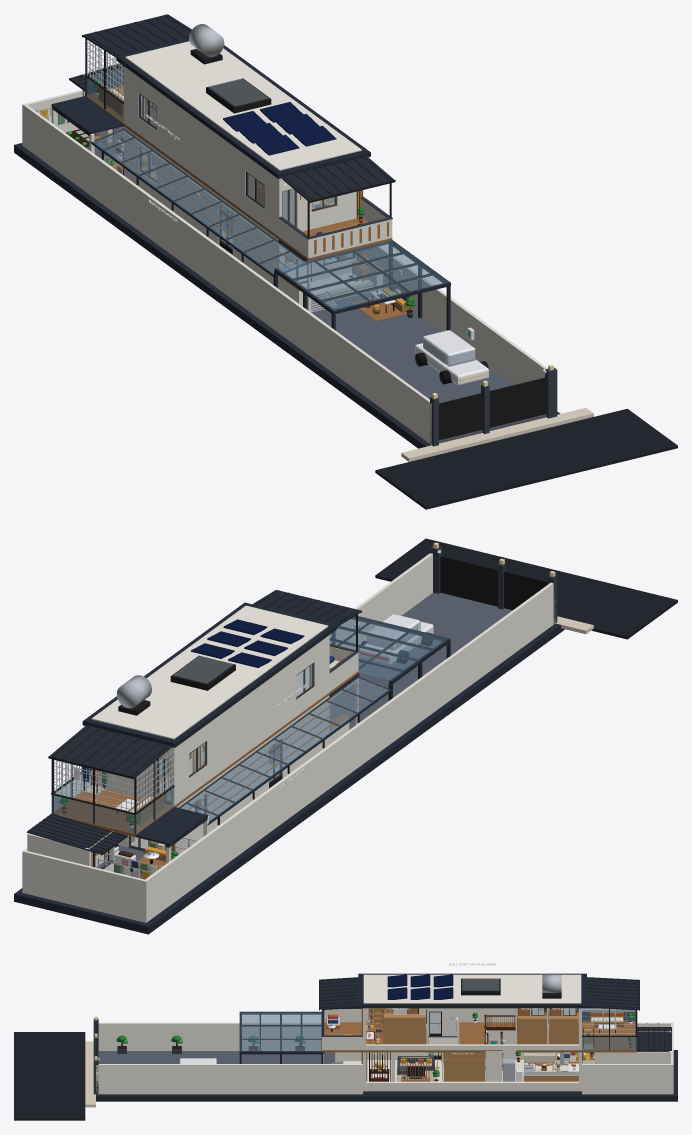
Rendered from Fullhouse_Model.obj.
3 views of the same model, one above another, from view 1: azimuth 30°, elevation 25°; view 2: azimuth 150°, elevation 25°; view 3: azimuth 270°, elevation 25° (orthographic). The views are drawn at different scales.
Visible parts, largest first — view 1: Fence_Left, Site_FrontRoad, Roof_Slab, SouthAwning_GlassRoof, Canopy_GlassRoof_Flush, Site_FrontYard_Slab, Site_ArchitecturalBasePlinth, Fence_Right_Front, Fl2_SouthWall_MidSolid, Roof_Fascia, BalconyFront_MetalRoof, BalconyRear_MetalRoof (+18 smaller); view 2: Fence_Left, Roof_Slab, Site_FrontRoad, Site_ArchitecturalBasePlinth, SouthAwning_GlassRoof, Site_FrontYard_Slab, Fence_Rear, Fl2_SouthWall_MidSolid, Canopy_GlassRoof_Flush, BalconyRear_MetalRoof, Roof_Fascia, Fence_Right_Front (+19 smaller); view 3: Fence_Right_Front, Site_FrontRoad, Fence_Left, Site_ArchitecturalBasePlinth, Roof_Slab, Canopy_GlassRoof_Flush, Fence_Right_Rear, Site_FrontYard_Slab, Roof_Fascia, Floor1_Slab, Floor2_Slab_Front, BalconyRear_MetalRoof (+30 smaller).
Boxes of the visible parts, <box> form: Fence_Left: <box>24,105,431,444</box>; Site_FrontRoad: <box>375,408,677,509</box>; Roof_Slab: <box>125,41,361,170</box>; SouthAwning_GlassRoof: <box>92,128,306,275</box>; Canopy_GlassRoof_Flush: <box>276,240,448,310</box>; Site_FrontYard_Slab: <box>311,292,546,443</box>; Site_ArchitecturalBasePlinth: <box>14,143,560,448</box>; Fence_Right_Front: <box>363,246,547,384</box>; Fl2_SouthWall_MidSolid: <box>157,90,245,212</box>; Roof_Fascia: <box>116,38,370,178</box>; BalconyFront_MetalRoof: <box>282,156,394,200</box>; BalconyRear_MetalRoof: <box>83,14,191,56</box>; Fence_Left: <box>145,582,555,921</box>; Roof_Slab: <box>91,605,328,739</box>; Site_FrontRoad: <box>375,538,677,639</box>; Site_ArchitecturalBasePlinth: <box>14,623,564,934</box>; SouthAwning_GlassRoof: <box>178,675,390,821</box>; Site_FrontYard_Slab: <box>330,592,512,729</box>; Fence_Rear: <box>22,850,147,922</box>; Fl2_SouthWall_MidSolid: <box>207,659,296,781</box>; Canopy_GlassRoof_Flush: <box>329,616,449,680</box>; BalconyRear_MetalRoof: <box>49,725,171,776</box>; Roof_Fascia: <box>82,602,337,747</box>; Fence_Right_Front: <box>330,553,432,649</box>; Fence_Right_Front: <box>96,1064,362,1094</box>; Site_FrontRoad: <box>14,1032,85,1120</box>; Fence_Left: <box>98,1022,670,1050</box>; Site_ArchitecturalBasePlinth: <box>96,1050,677,1101</box>; Roof_Slab: <box>363,974,581,1003</box>; Canopy_GlassRoof_Flush: <box>240,1011,321,1051</box>; Fence_Right_Rear: <box>582,1064,670,1094</box>; Site_FrontYard_Slab: <box>98,1051,334,1063</box>; Roof_Fascia: <box>358,973,586,1008</box>; Floor1_Slab: <box>363,1059,581,1091</box>; Floor2_Slab_Front: <box>322,1022,485,1052</box>; BalconyRear_MetalRoof: <box>587,977,639,1009</box>.
Bounding box in the file's own units: 22.5 × 13.95 × 72.75.
